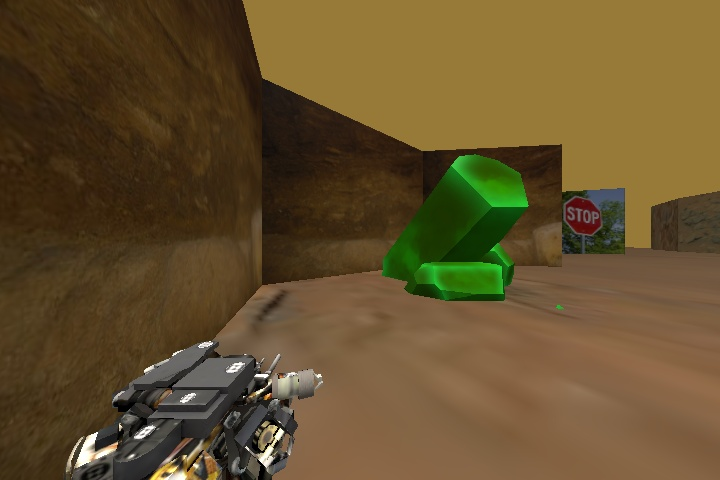gem: (381, 149, 514, 299)
sign: (559, 194, 604, 237)
